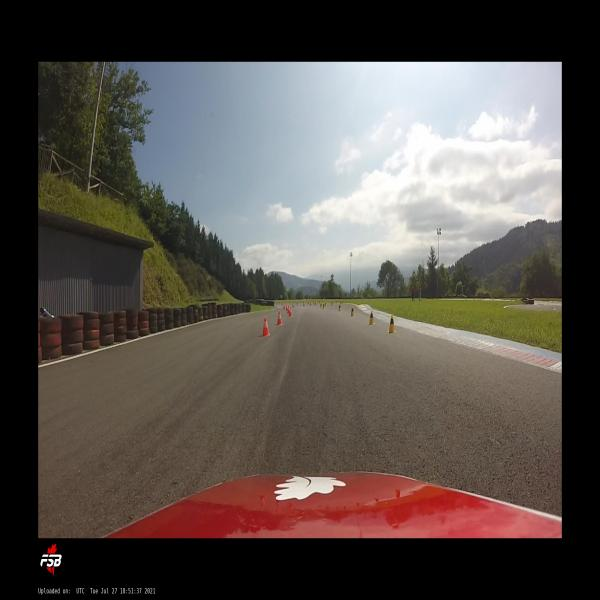orange_cone: (262, 317, 270, 336), (276, 311, 282, 325), (289, 308, 292, 316), (288, 306, 290, 313), (285, 305, 287, 310)
yellow_cone: (388, 314, 396, 333), (368, 310, 375, 325), (350, 307, 354, 316), (338, 304, 341, 312), (322, 303, 325, 309)
